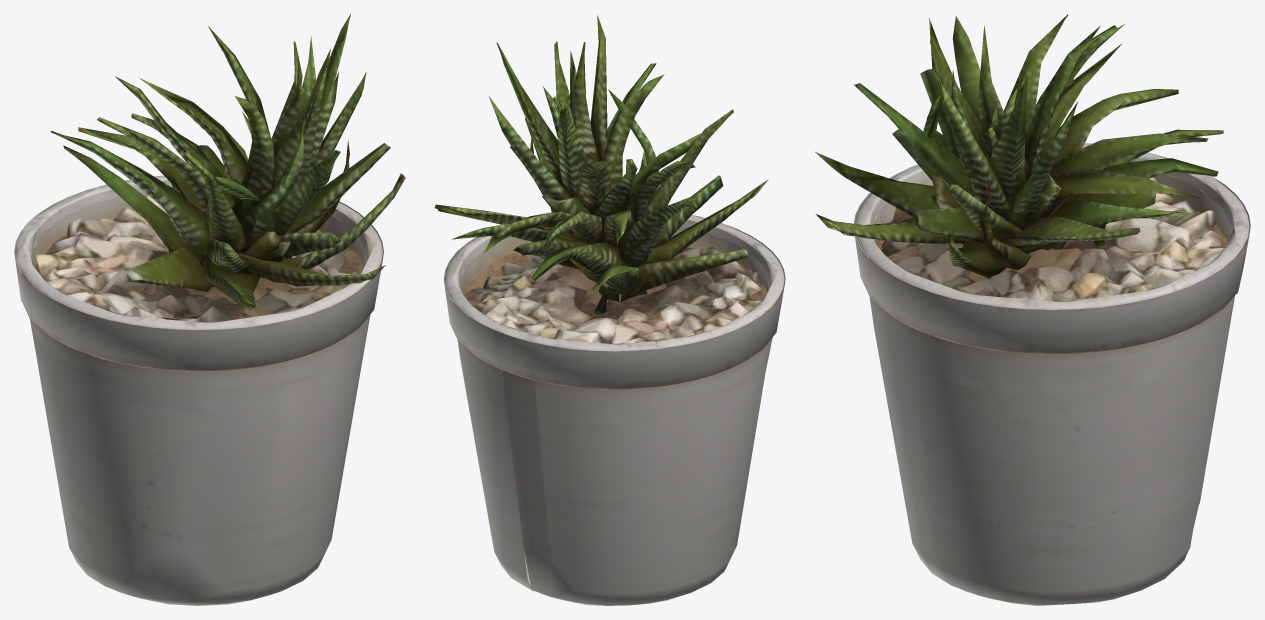
The model's file is succulent.glb.
The picture shows the model from 3 angles, left to right: view 1: azimuth 30°, elevation 25°; view 2: azimuth 150°, elevation 25°; view 3: azimuth 270°, elevation 25°; orthographic projection. The views are drawn at different scales.
Parts seen in each view (by area): view 1: potted_plant_04_dirt; view 2: potted_plant_04_dirt; view 3: potted_plant_04_dirt.
Part boxes in pixels (<box>): potted_plant_04_dirt: <box>14,14,405,605</box>; potted_plant_04_dirt: <box>434,15,785,605</box>; potted_plant_04_dirt: <box>815,14,1250,605</box>.
Size of the model in its own units: 0.168 by 0.2677 by 0.1846.
1 material, 1 textured.
